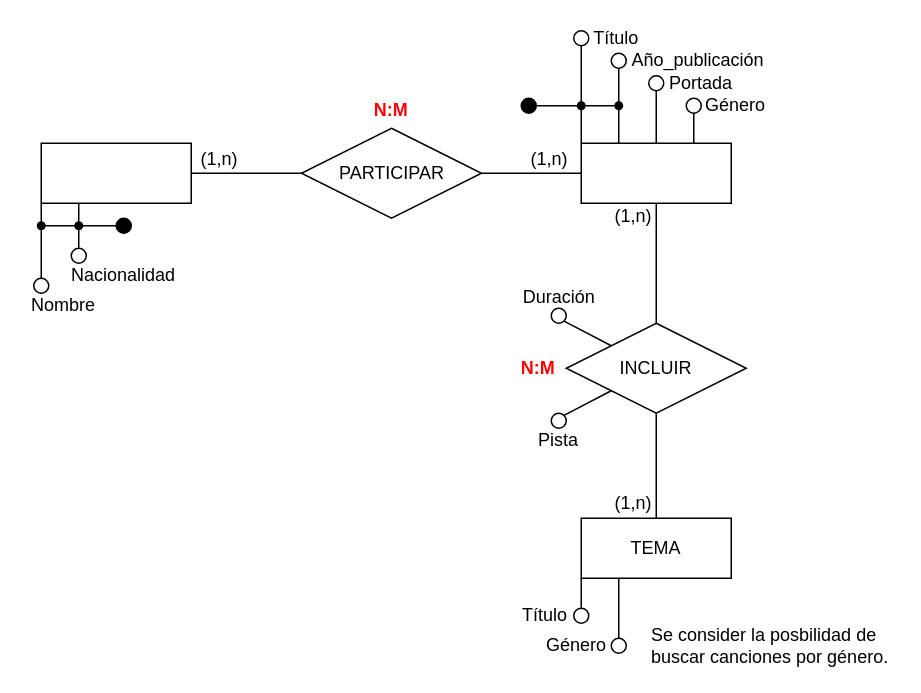
The diagram is 921 pixels wide and 693 high, and some of its shapes have lost their labels. The shapes that lost their labels are listed below. From the top down, each one's centre as x and y in pixels, then its label:
(x=115, y=172): ARTISTA
(x=655, y=172): ÁLBUM
